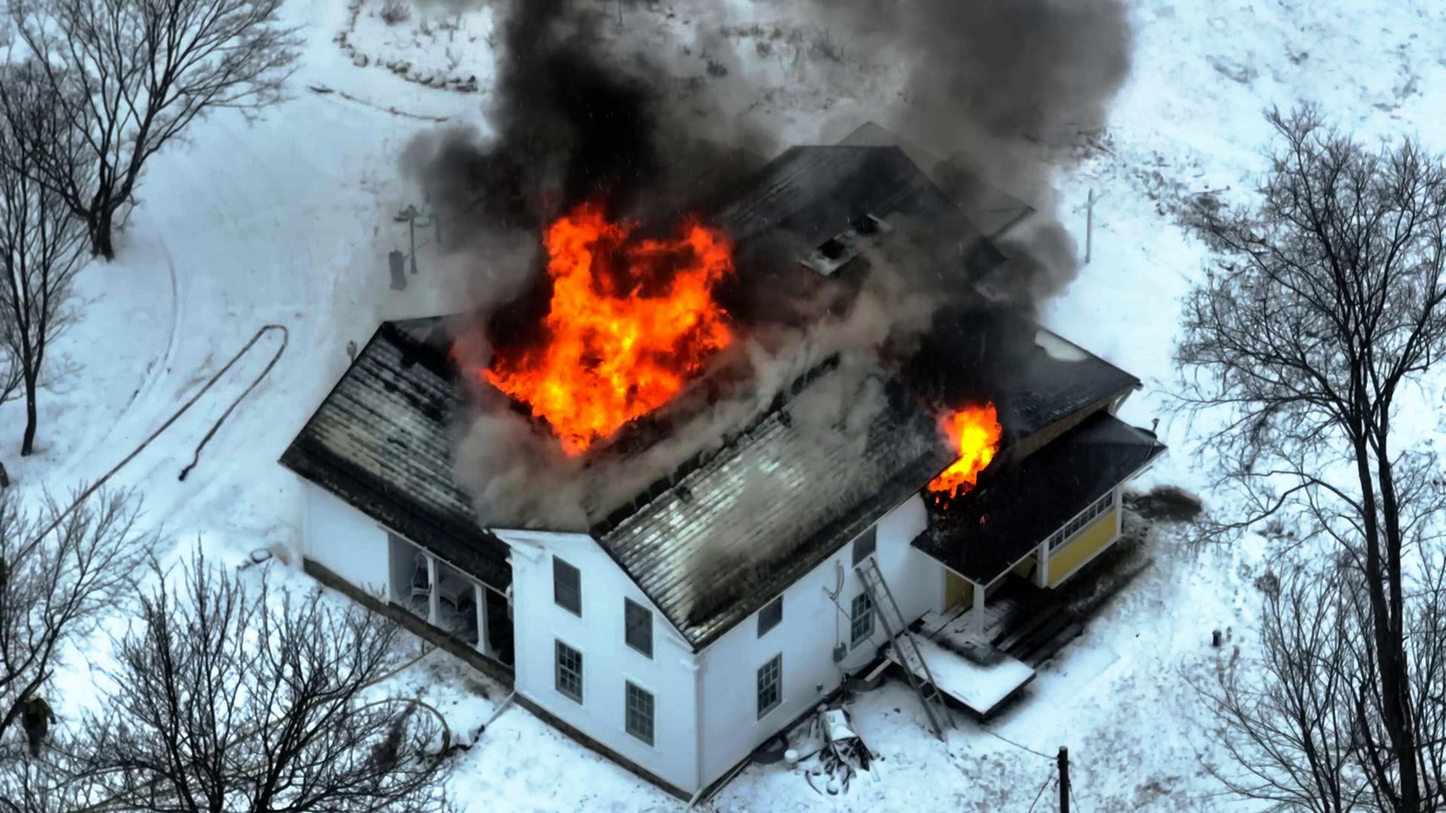fire: (550, 213, 736, 375), (480, 339, 688, 429), (918, 396, 1006, 497)
smoke: (563, 70, 701, 189)
